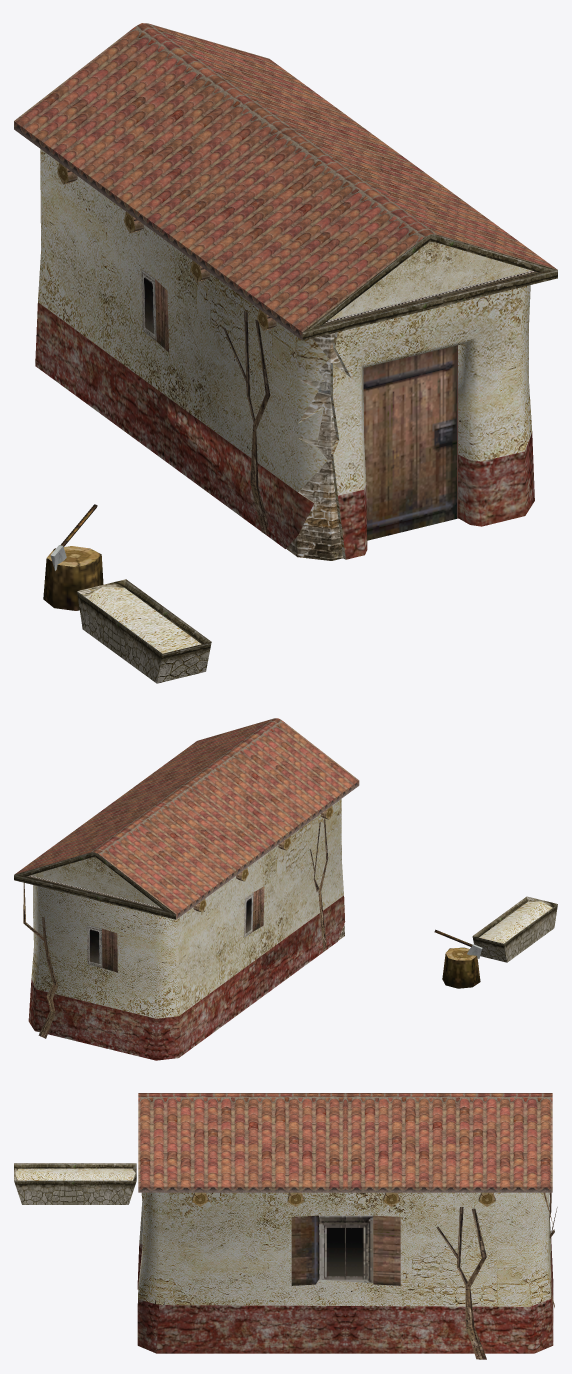
The model's file is rome_corral.dae.
The picture shows the model from 3 angles, top to bottom: view 1: azimuth 30°, elevation 25°; view 2: azimuth 150°, elevation 25°; view 3: azimuth 270°, elevation 25°; orthographic projection. The views are drawn at different scales.
Parts seen in each view (by area): view 1: rome_corral; view 2: rome_corral; view 3: rome_corral.
Boxes of the visible parts, x1=… form: rome_corral: x1=14, y1=23, x2=557, y2=683; rome_corral: x1=14, y1=718, x2=557, y2=1060; rome_corral: x1=14, y1=1093, x2=557, y2=1359.
Bounding box in the file's own units: 12.82 × 17.46 × 8.1.
